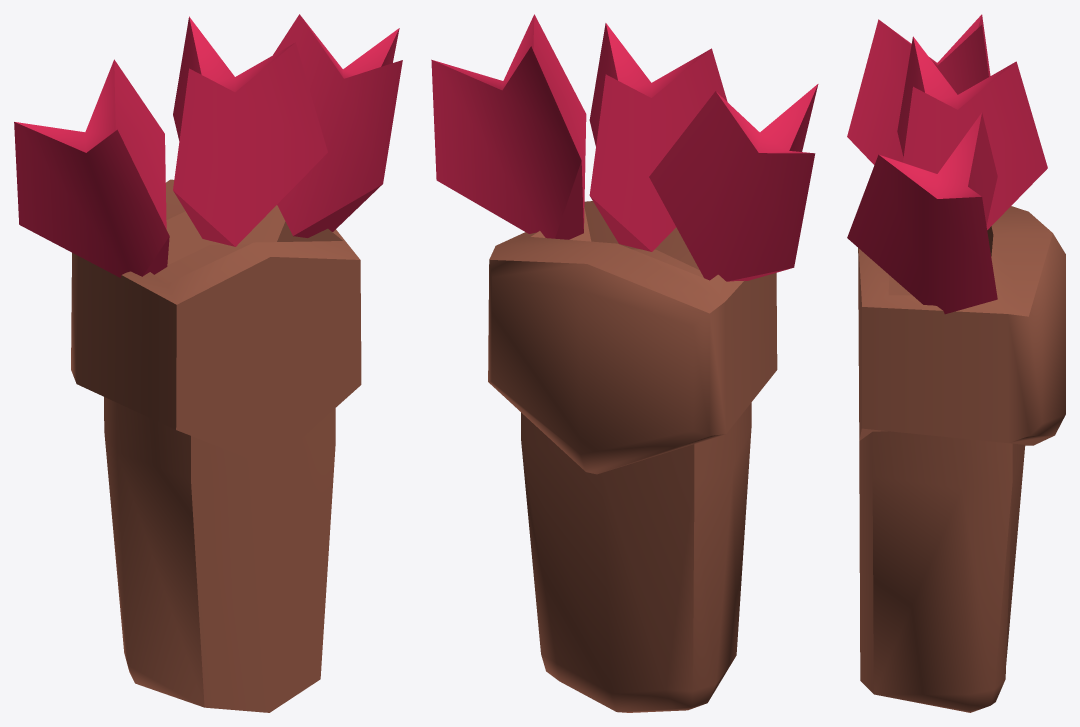
The model's file is goblin_quiver.fbx.
3 renders of one model, left to right at view 1: azimuth 30°, elevation 25°; view 2: azimuth 150°, elevation 25°; view 3: azimuth 270°, elevation 25°, orthographic. The views are drawn at different scales.
Parts seen in each view (by area): view 1: goblin_quiver; view 2: goblin_quiver; view 3: goblin_quiver.
Boxes of the visible parts, x1=… form: goblin_quiver: x1=14, y1=14, x2=402, y2=712; goblin_quiver: x1=431, y1=14, x2=818, y2=712; goblin_quiver: x1=847, y1=14, x2=1065, y2=712.
Bounding box in the file's own units: 0.3728 × 0.6087 × 0.1886.
